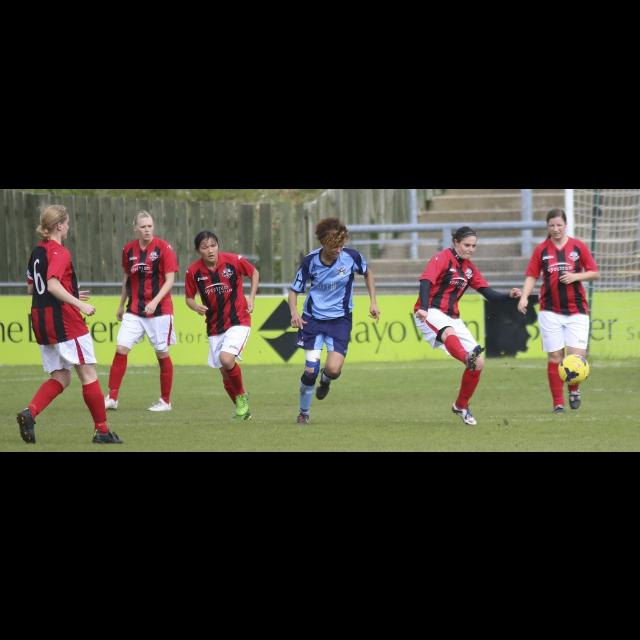Football: (552, 351, 588, 383)
